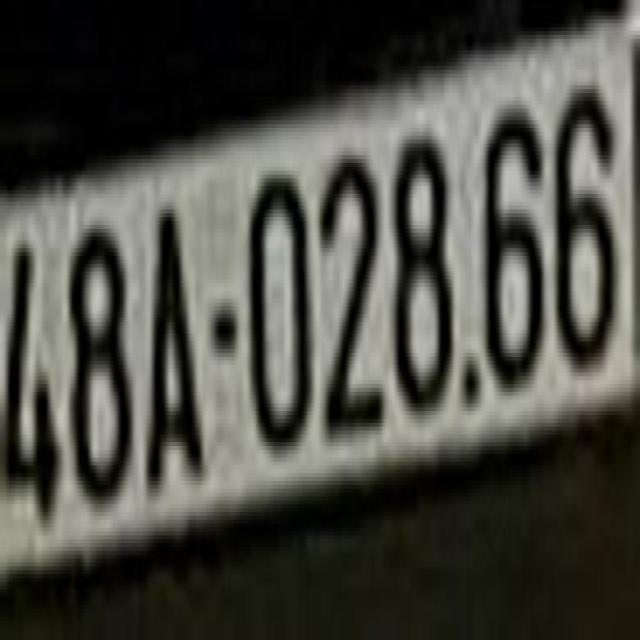0: (242, 147, 314, 450)
2: (319, 148, 382, 438)
4: (0, 217, 62, 520)
6: (479, 58, 547, 411), (554, 54, 617, 380)
8: (68, 206, 130, 508), (397, 112, 453, 423)
A: (140, 178, 207, 508)
